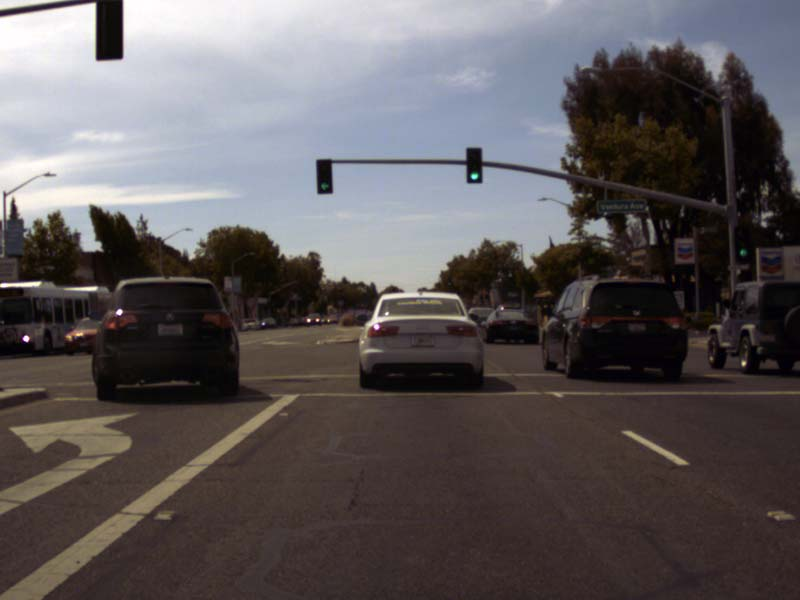Green: (317, 160, 331, 193), (467, 148, 480, 182), (736, 227, 748, 261)
